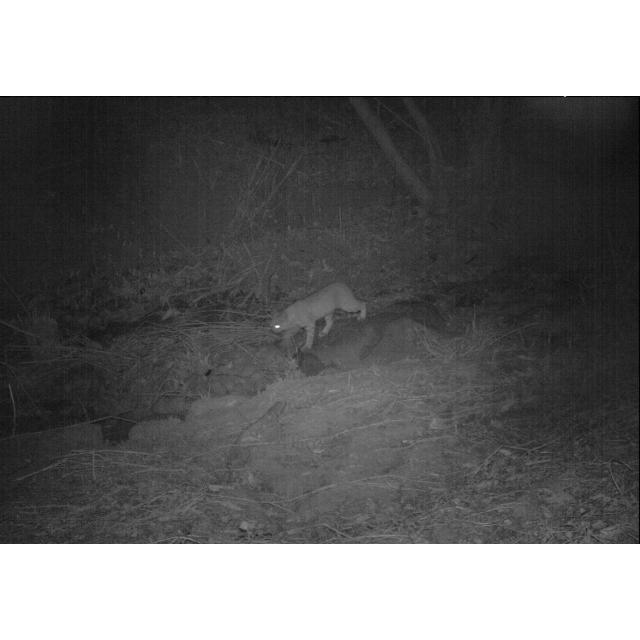animals: (268, 282, 370, 352)
